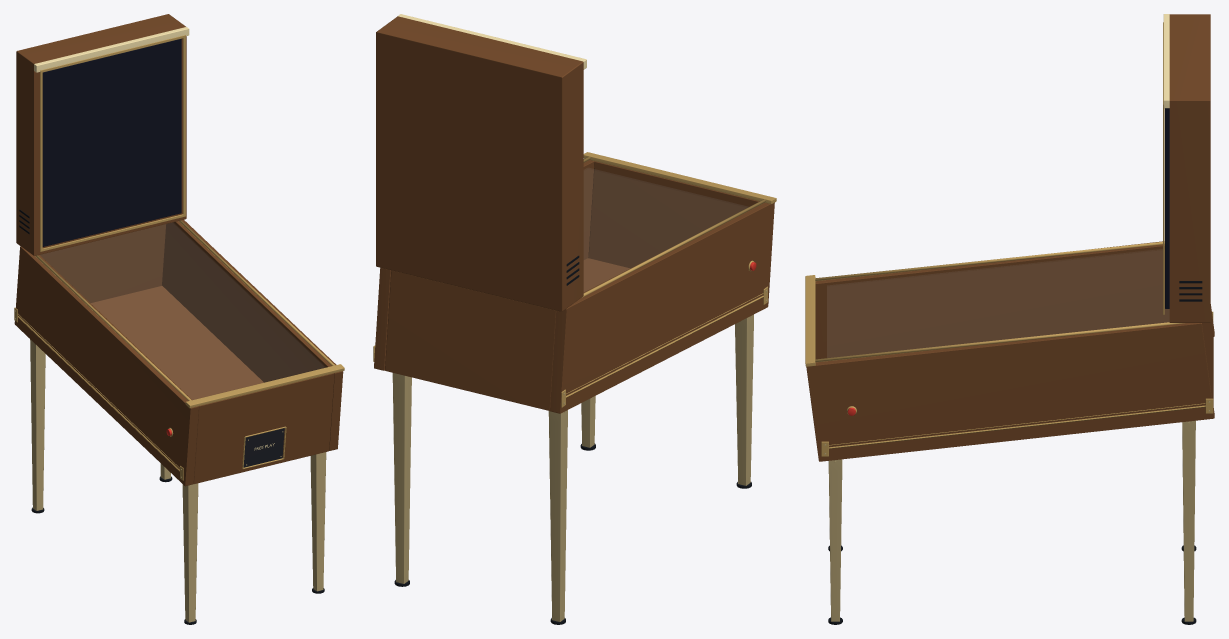
Rendered from Pinball_Cabinet.glb.
The picture shows the model from 3 angles, left to right: view 1: azimuth 30°, elevation 25°; view 2: azimuth 150°, elevation 25°; view 3: azimuth 270°, elevation 25°; orthographic projection. The views are drawn at different scales.
Parts seen in each view (by area): view 1: Backglass, SideWall_L, SideWall_R, FrontWall, Body, Backbox, BackWall, Leg_BL, Deco_BackboxBezel, Leg_FL, Leg_FR, Deco_SideRails (+4 smaller); view 2: Backbox, SideWall_L, BackWall, FrontWall, Leg_BL, Leg_BR, Leg_FL, SideWall_R, LockdownBar, Body, Deco_SideRails, Deco_CabinetPinstripe (+2 smaller); view 3: SideWall_R, SideWall_L, Backbox, Deco_SideRails, Leg_BR, Leg_FR, Deco_CabinetPinstripe, LockdownBar, Backglass, LightStrip.
Part boxes in pixels (<box>): Backglass: <box>42,38,181,246</box>; SideWall_L: <box>14,246,198,486</box>; SideWall_R: <box>162,220,343,450</box>; FrontWall: <box>193,373,334,483</box>; Body: <box>90,286,263,399</box>; Backbox: <box>16,14,186,255</box>; BackWall: <box>40,224,166,302</box>; Leg_BL: <box>30,339,45,510</box>; Deco_BackboxBezel: <box>40,35,185,251</box>; Leg_FL: <box>182,483,198,622</box>; Leg_FR: <box>310,452,326,591</box>; Deco_SideRails: <box>35,220,334,400</box>; Backbox: <box>376,16,583,311</box>; SideWall_L: <box>550,202,774,413</box>; BackWall: <box>385,270,556,410</box>; FrontWall: <box>588,161,759,268</box>; Leg_BL: <box>548,410,567,621</box>; Leg_BR: <box>392,373,411,583</box>; Leg_FL: <box>735,314,753,485</box>; SideWall_R: <box>374,160,594,370</box>; LockdownBar: <box>583,152,776,204</box>; Body: <box>583,258,630,292</box>; Deco_SideRails: <box>581,156,765,297</box>; Deco_CabinetPinstripe: <box>566,293,763,397</box>; SideWall_R: <box>806,323,1214,461</box>; SideWall_L: <box>815,241,1214,358</box>; Backbox: <box>1169,14,1210,322</box>; Deco_SideRails: <box>815,241,1184,362</box>; Leg_BR: <box>1182,420,1195,621</box>; Leg_FR: <box>828,459,842,621</box>; Deco_CabinetPinstripe: <box>829,403,1205,448</box>; LockdownBar: <box>805,275,815,366</box>; Backglass: <box>1165,108,1169,308</box>; LightStrip: <box>1163,14,1169,108</box>.
Bounding box in the file's own units: 0.784 × 2.16 × 1.51.
